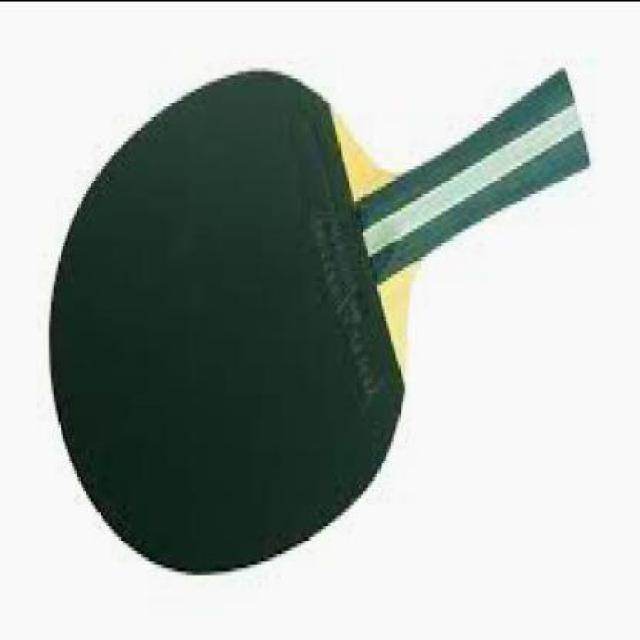table_tennis_racket: (49, 69, 594, 575)
